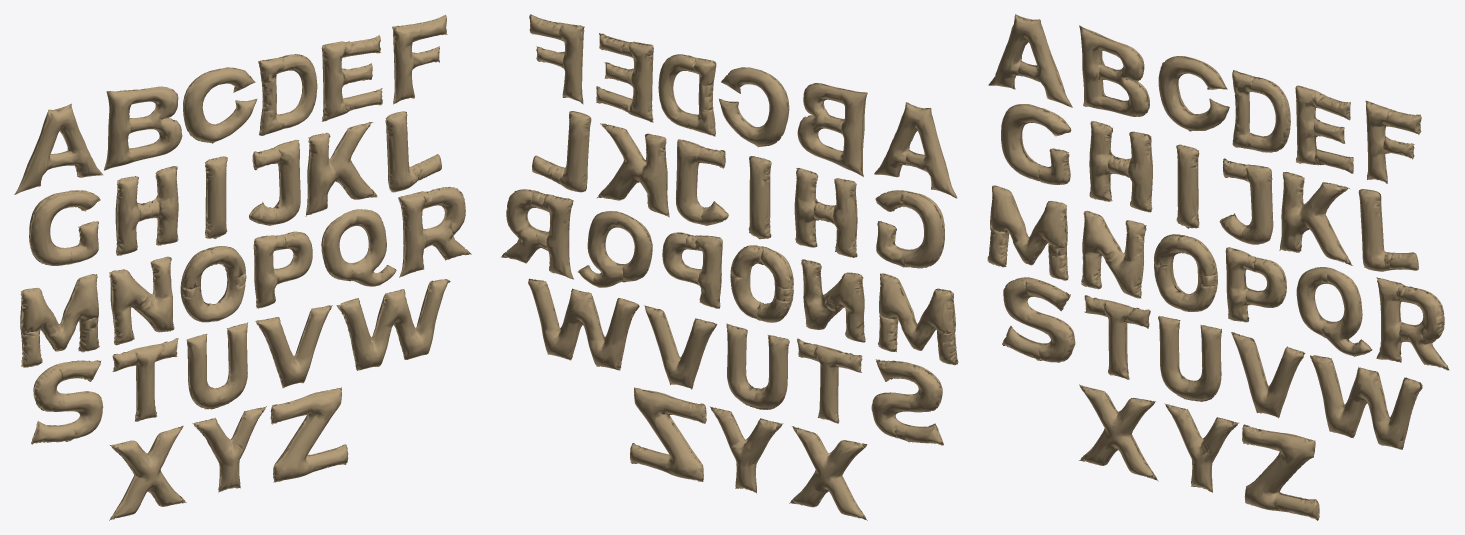
The model's file is balloons.gltf.
3 renders of one model, left to right at view 1: azimuth 30°, elevation 25°; view 2: azimuth 150°, elevation 25°; view 3: azimuth 330°, elevation 25°, orthographic.
Parts seen in each view (by area): view 1: Object_3, Object_5, Object_2, Object_4, Object_6, Object_7; view 2: Object_4, Object_2, Object_3, Object_6, Object_5, Object_7; view 3: Object_3, Object_5, Object_2, Object_4, Object_6, Object_7.
Boxes of the visible parts, x1,y1,x2,y2 form: Object_3: (109, 209, 450, 520); Object_5: (14, 14, 447, 265); Object_2: (113, 156, 395, 421); Object_4: (17, 54, 348, 492); Object_6: (20, 36, 382, 444); Object_7: (398, 186, 471, 277); Object_4: (630, 54, 957, 493); Object_2: (578, 156, 862, 423); Object_3: (528, 211, 867, 520); Object_6: (596, 33, 958, 445); Object_5: (529, 14, 956, 268); Object_7: (500, 189, 573, 279); Object_3: (1079, 267, 1422, 520); Object_5: (988, 14, 1421, 271); Object_2: (1085, 121, 1372, 401); Object_4: (1005, 16, 1319, 520); Object_6: (987, 86, 1353, 362); Object_7: (1376, 277, 1449, 370).
Bounding box in the file's own units: 19.73 × 17.78 × 1.11.
